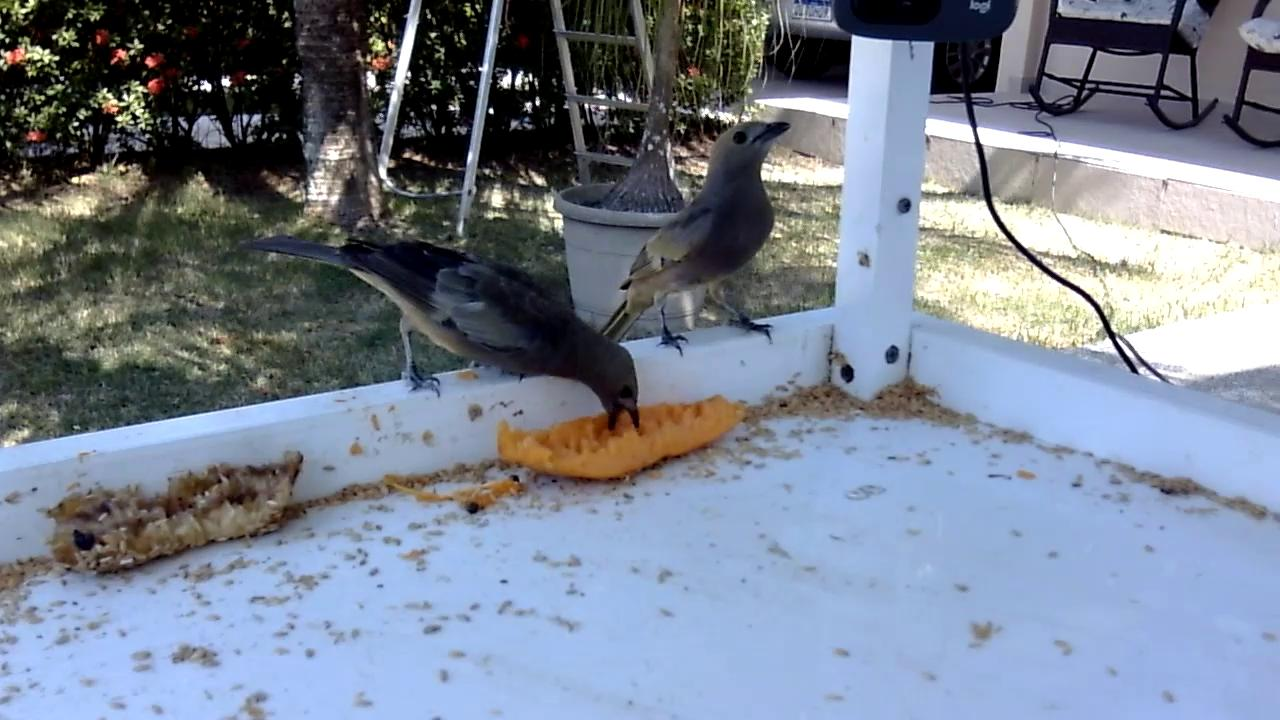sanhaco_do_coqueiro: (240, 232, 643, 435), (598, 117, 795, 362)
